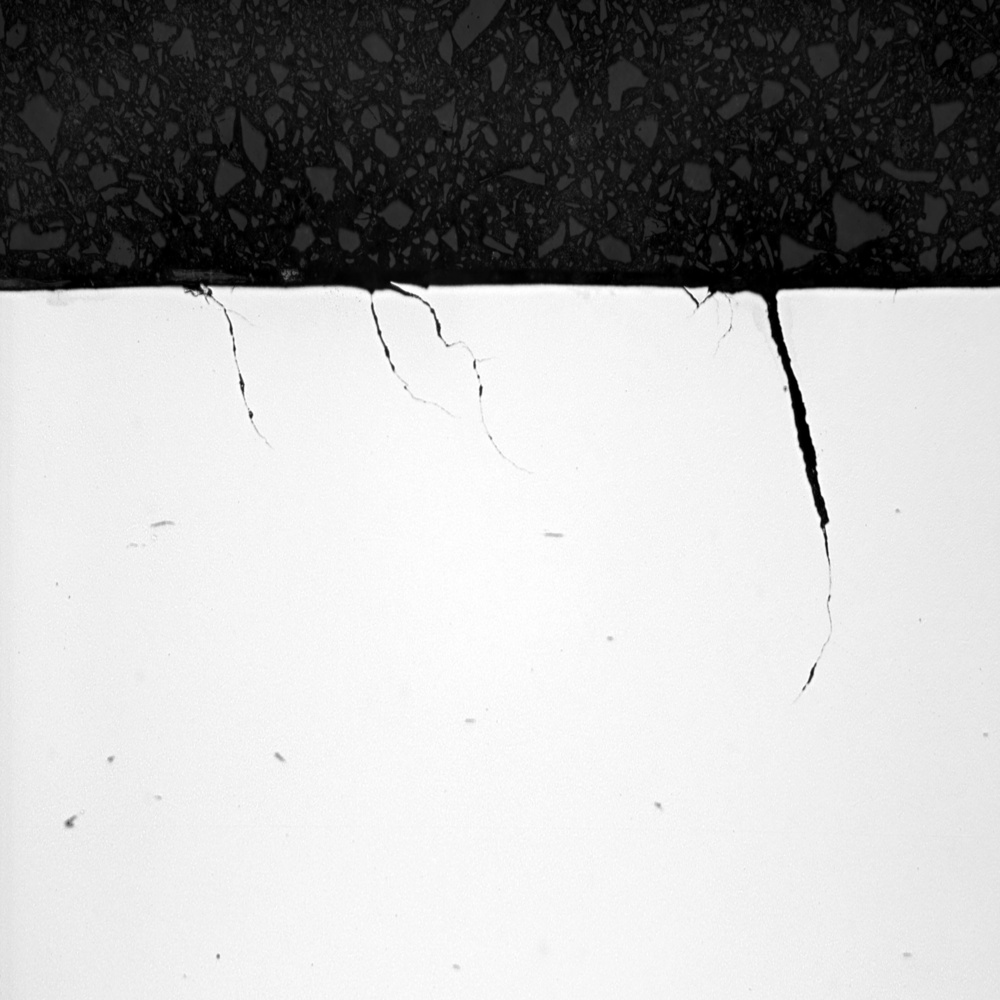crack: (677, 273, 855, 705), (348, 275, 545, 485), (167, 271, 288, 463)
